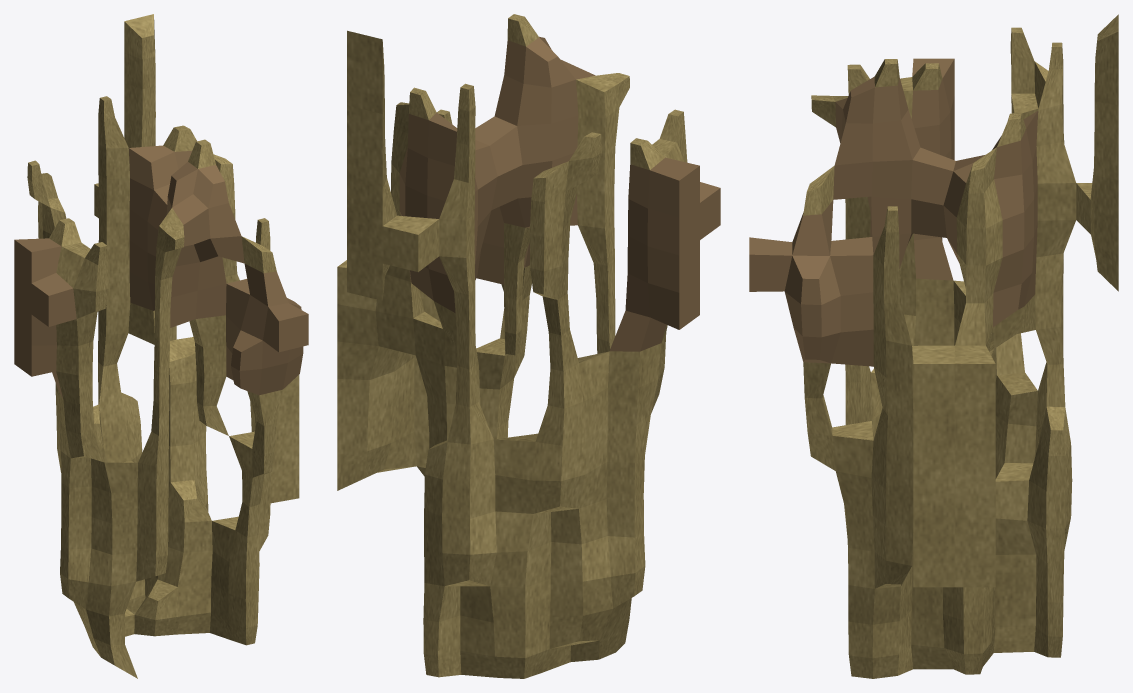
File: flora_reed_cattail.glb
3 renders of one model, left to right at view 1: azimuth 30°, elevation 25°; view 2: azimuth 150°, elevation 25°; view 3: azimuth 270°, elevation 25°, orthographic. The views are drawn at different scales.
Parts seen in each view (by area): view 1: wilds_flora_reed_cattail; view 2: wilds_flora_reed_cattail; view 3: wilds_flora_reed_cattail.
Boxes of the visible parts, <box> form: wilds_flora_reed_cattail: <box>14,14,308,678</box>; wilds_flora_reed_cattail: <box>337,14,720,678</box>; wilds_flora_reed_cattail: <box>749,14,1118,678</box>.
Bounding box in the file's own units: 0.5625 × 1.12 × 0.5625.
2 materials, 1 textured.
